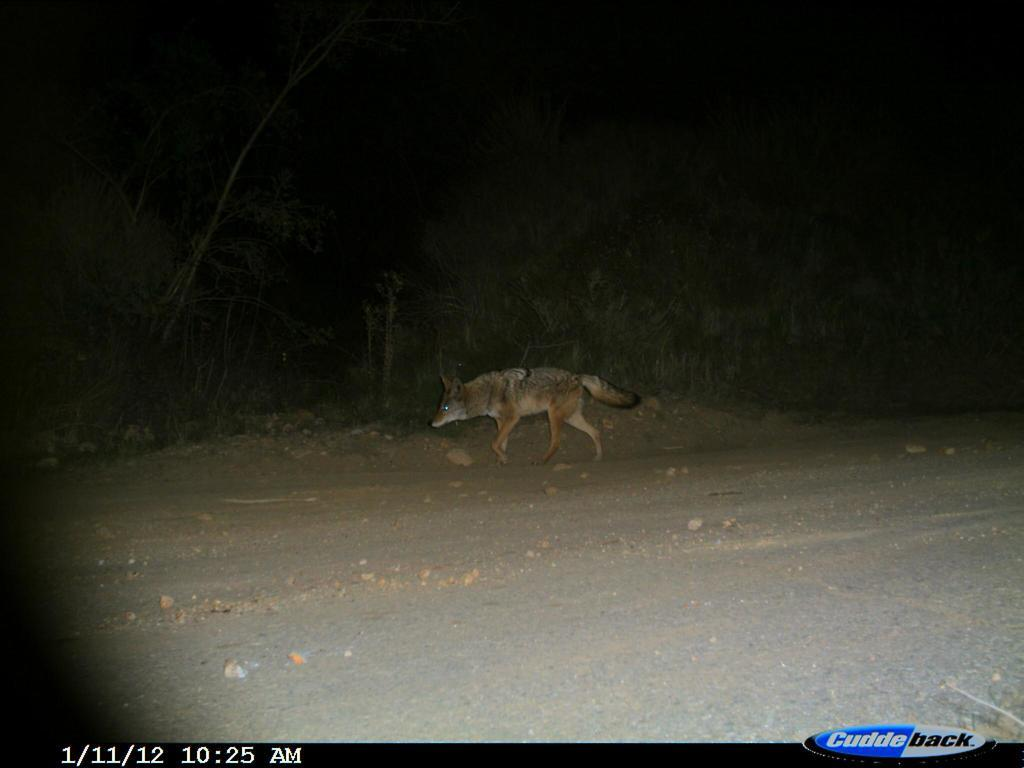coyote: (411, 356, 642, 482)
